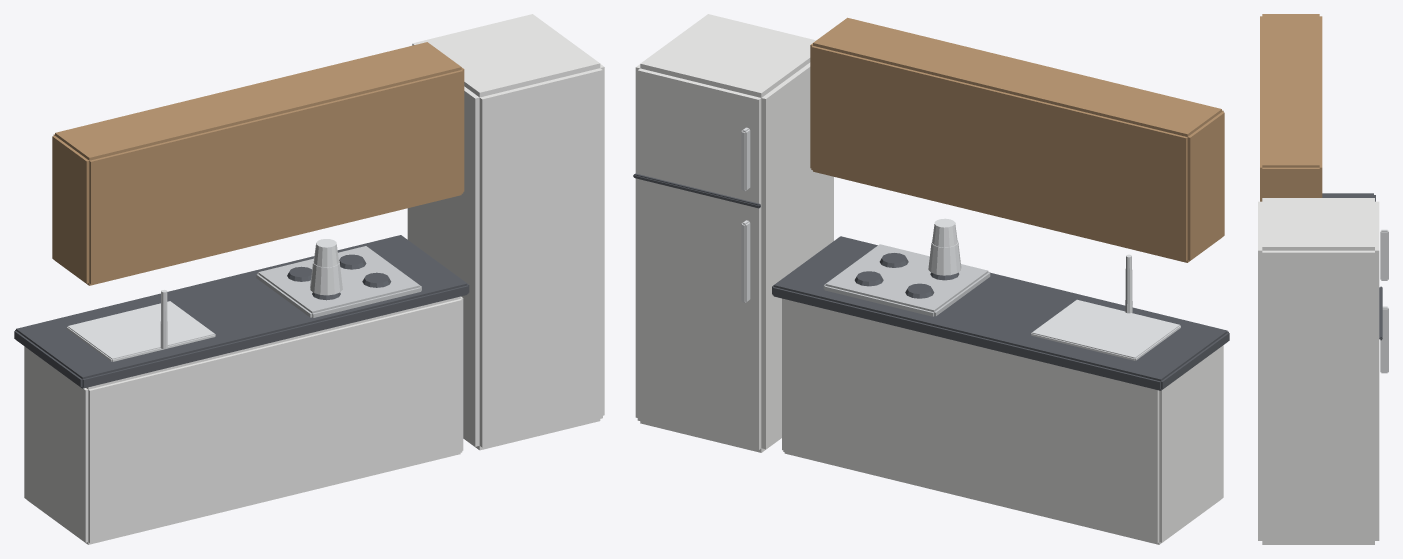
The model's file is Interior_TurkishKitchen.fbx.
3 renders of one model, left to right at view 1: azimuth 30°, elevation 25°; view 2: azimuth 150°, elevation 25°; view 3: azimuth 270°, elevation 25°, orthographic. The views are drawn at different scales.
Parts seen in each view (by area): view 1: Interior_TurkishKitchen; view 2: Interior_TurkishKitchen; view 3: Interior_TurkishKitchen.
Part boxes in pixels (left/top/right/bottom): Interior_TurkishKitchen: left=14, top=14, right=604, bottom=544; Interior_TurkishKitchen: left=633, top=14, right=1229, bottom=544; Interior_TurkishKitchen: left=1258, top=14, right=1388, bottom=544.
Size of the model in its own units: 2.91 by 2.06 by 0.755.
